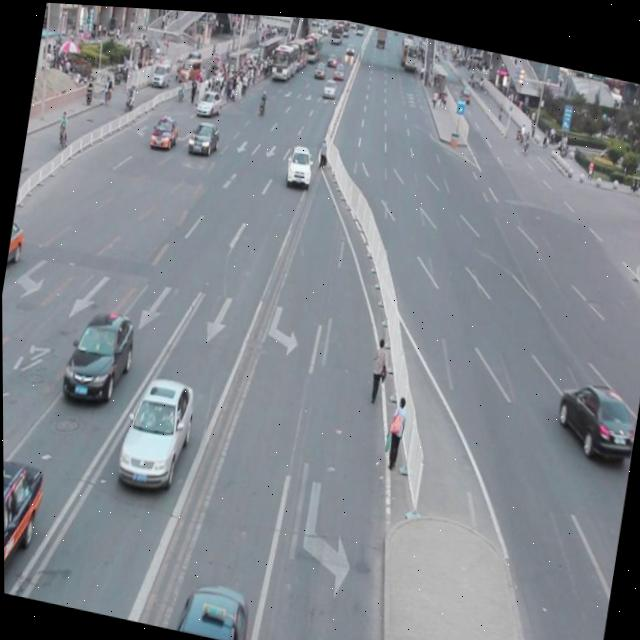car: (113, 367, 197, 498), (58, 299, 138, 411), (550, 364, 640, 458), (3, 453, 47, 599), (171, 569, 254, 640), (3, 216, 27, 285), (282, 139, 315, 187), (186, 115, 221, 158), (148, 110, 180, 152), (287, 634, 358, 640)
